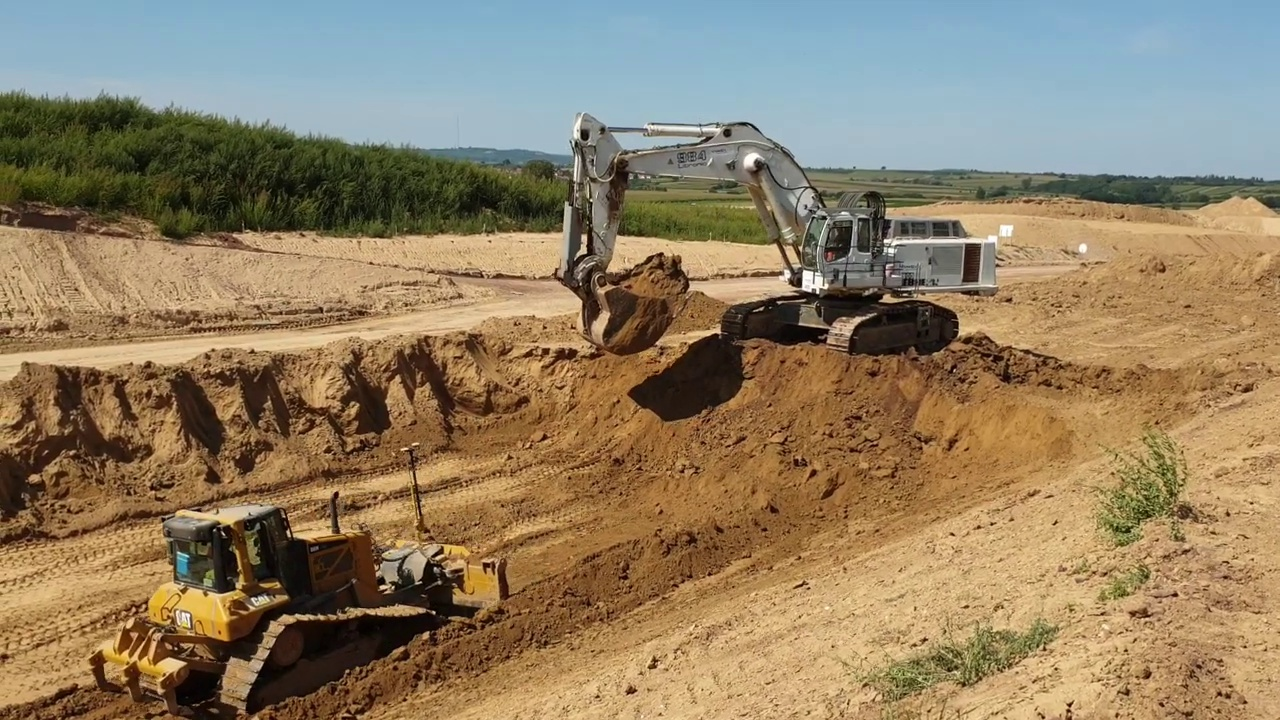bulldozer: (87, 437, 529, 720)
excavator: (549, 103, 1001, 361)
